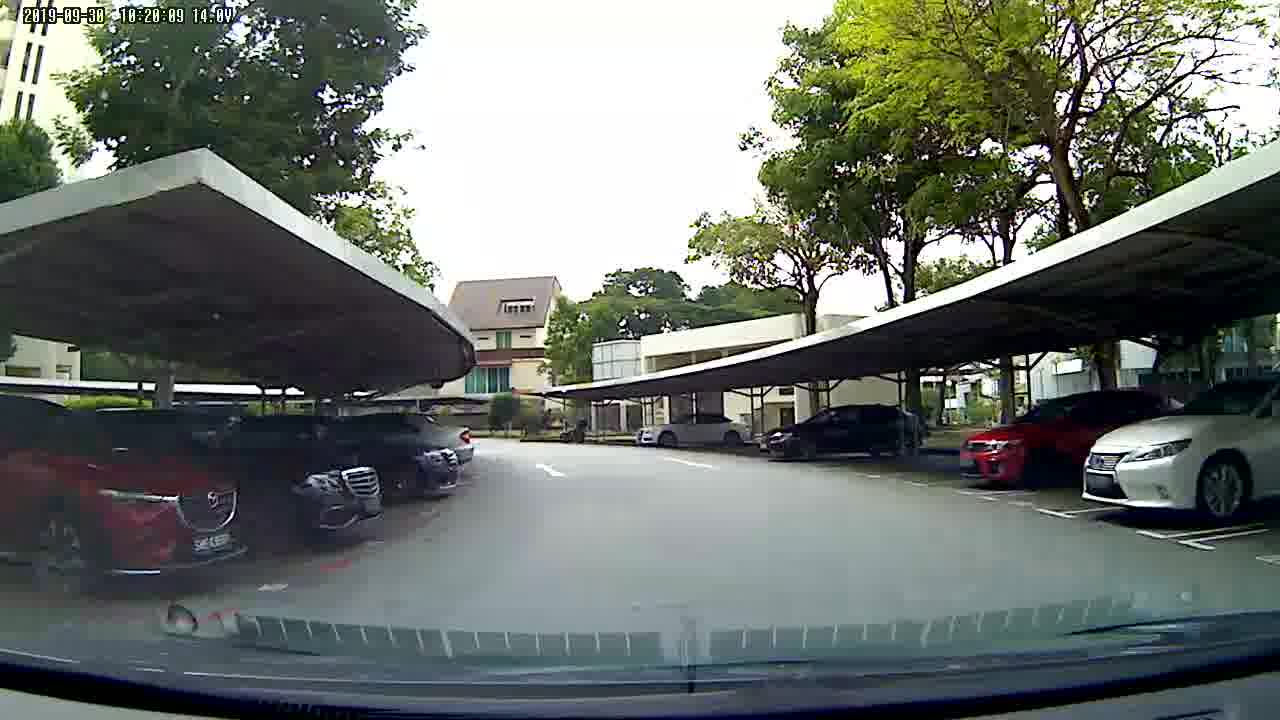car: (1, 392, 261, 598), (1073, 369, 1280, 534), (957, 378, 1073, 500), (753, 403, 943, 473), (633, 407, 755, 456)
